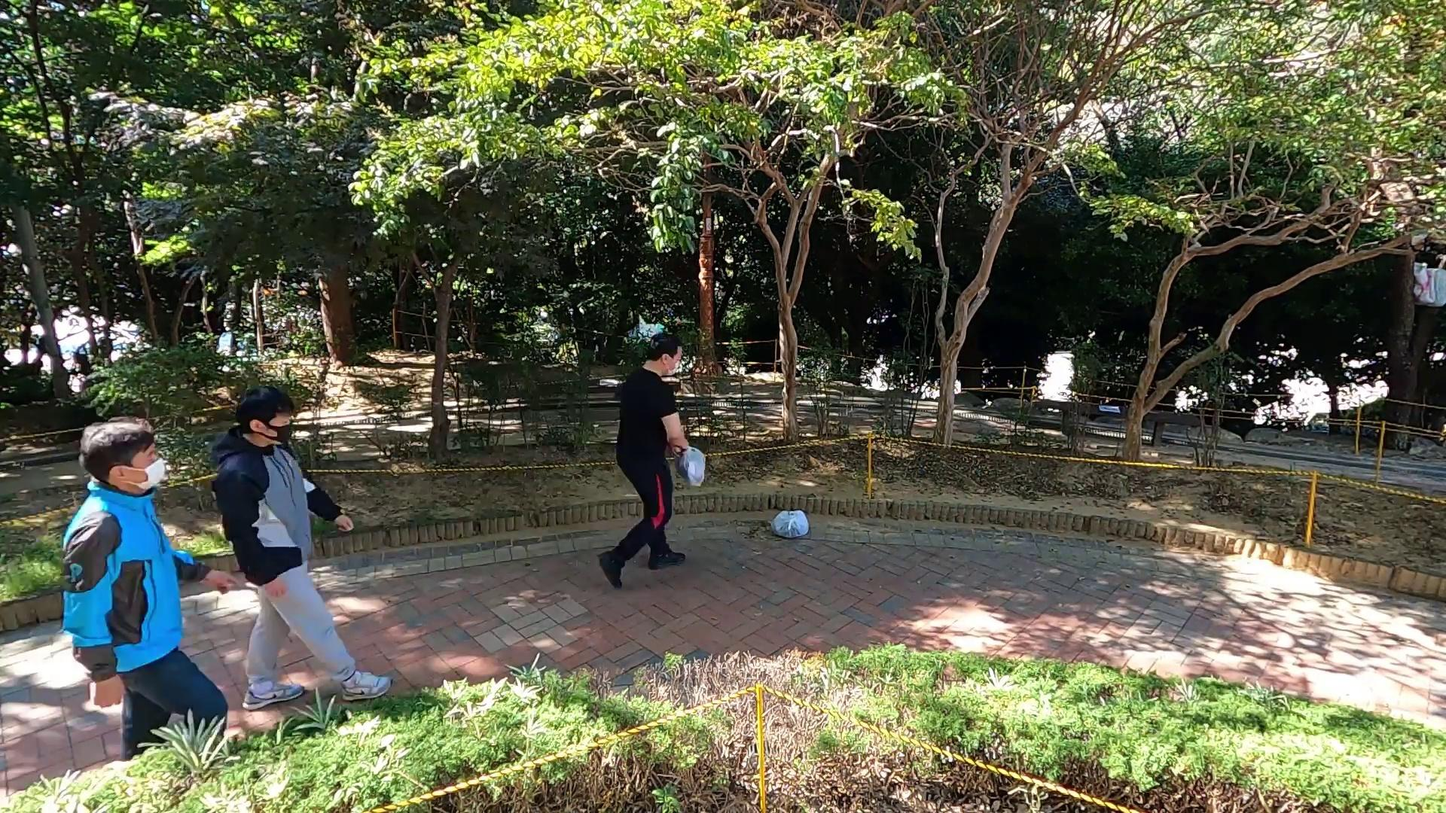person: (210, 386, 398, 712), (62, 419, 236, 762), (599, 332, 692, 590)
trash: (675, 448, 708, 487), (770, 510, 811, 540)
